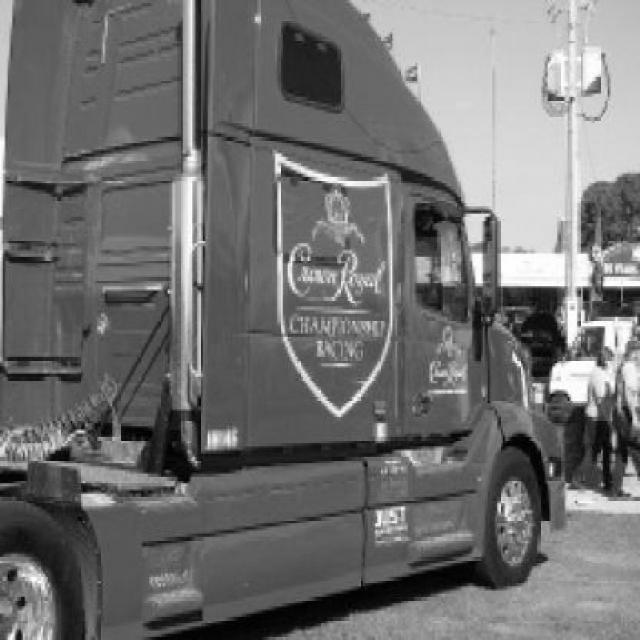Box Truck: (0, 0, 571, 640)
